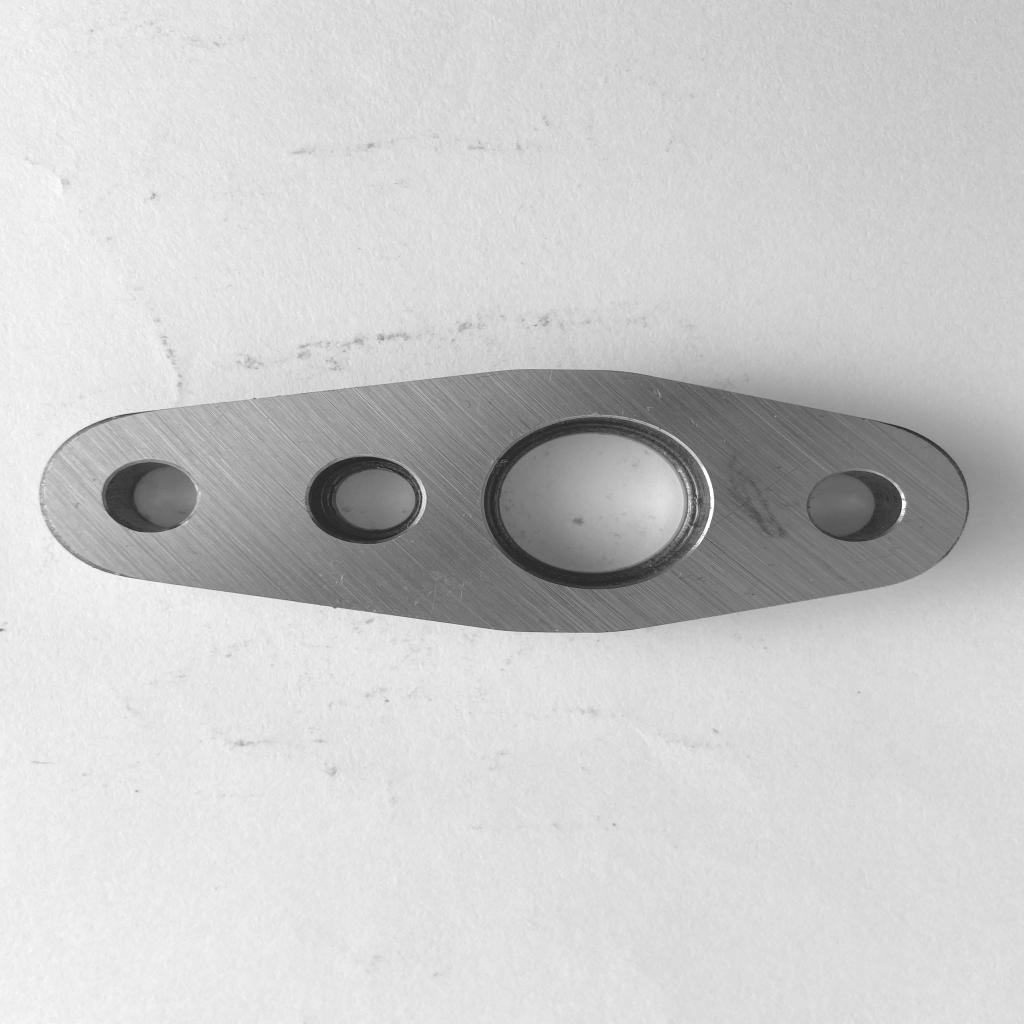lines: (735, 478, 780, 538)
